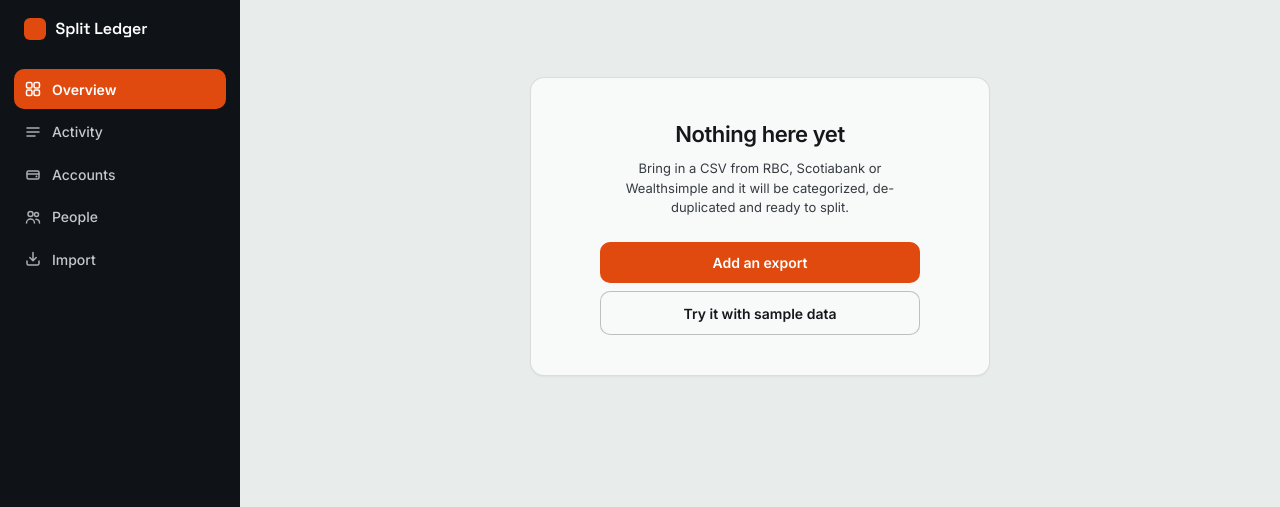
Test: App › hides paired internal transfers from the spend total
Click the button "Try it with sample data" at (760, 313), box [600,291,920,335]
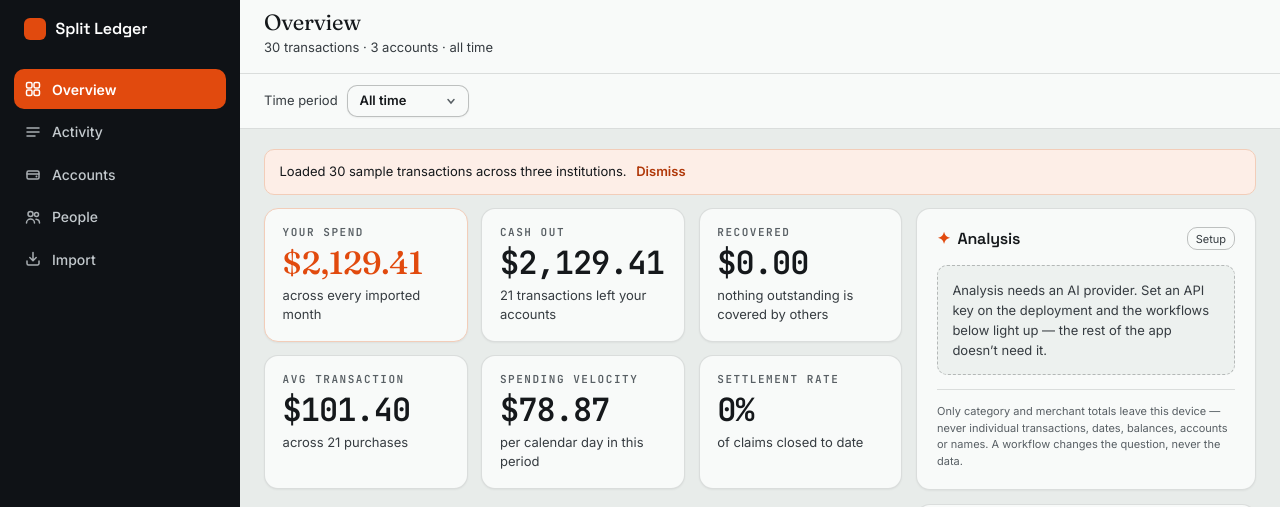
Click the button "Activity" at (120, 132), box [14,112,226,152]
(page scrolled)
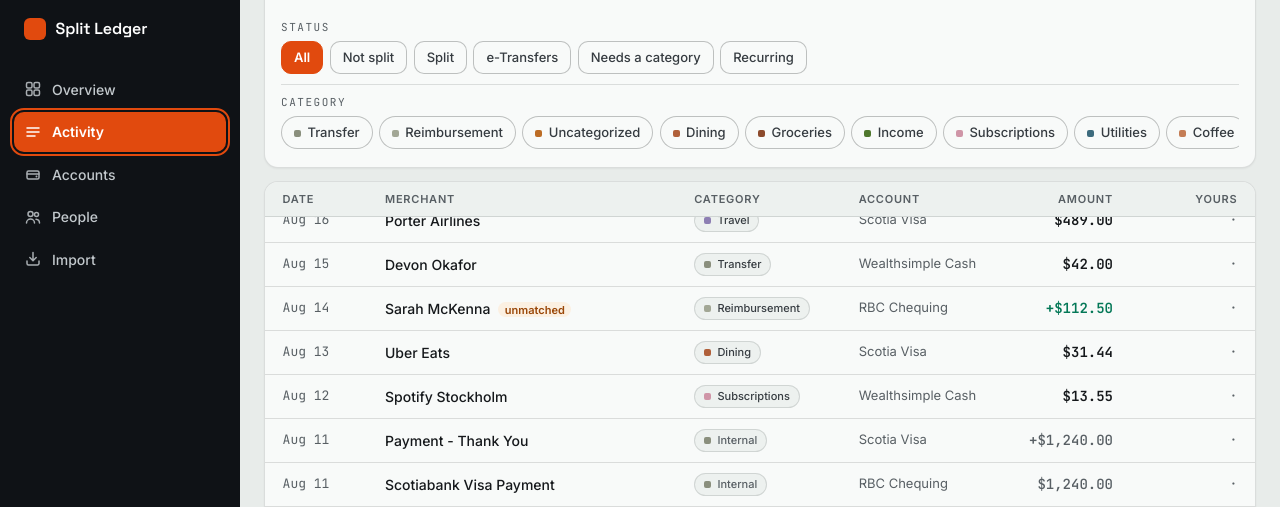
Check: the button "Aug 11 Payment - Thank You Internal Scotia Visa +$1,240.00 ·" is shown, box [265,418,1255,463]
